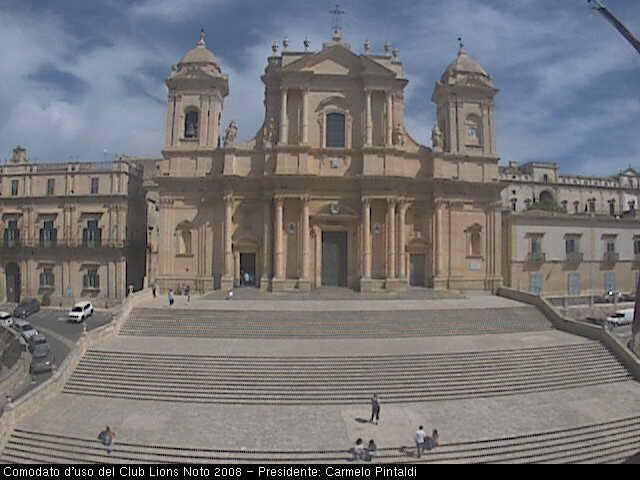person: (91, 426, 121, 454), (365, 389, 387, 427), (410, 424, 432, 457), (346, 431, 366, 461), (427, 426, 445, 452), (364, 435, 381, 461), (180, 283, 198, 306), (168, 285, 179, 312), (239, 271, 249, 291), (151, 282, 161, 298), (224, 286, 234, 301)
